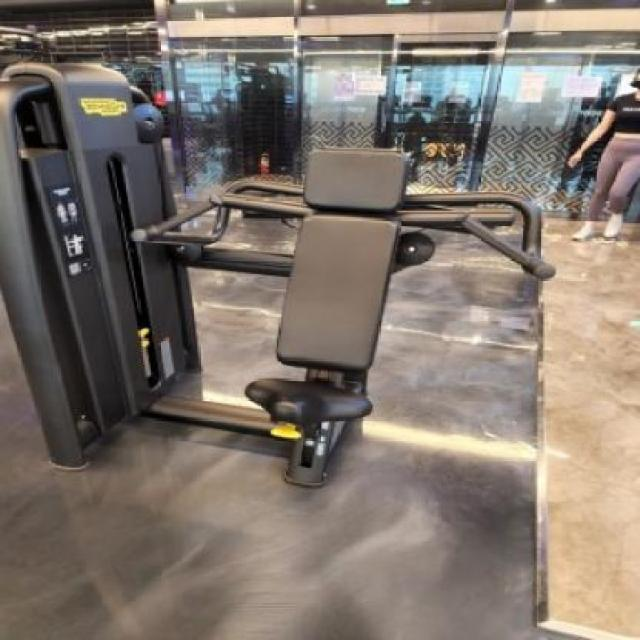Chest Press machine: (1, 54, 558, 497)
